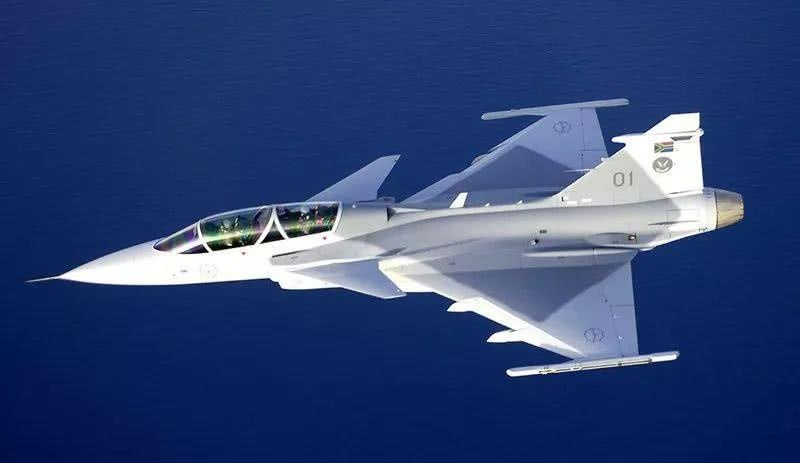airplane: (20, 96, 746, 381)
